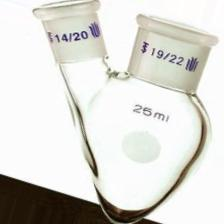Pear shaped flask: (15, 2, 209, 223)
